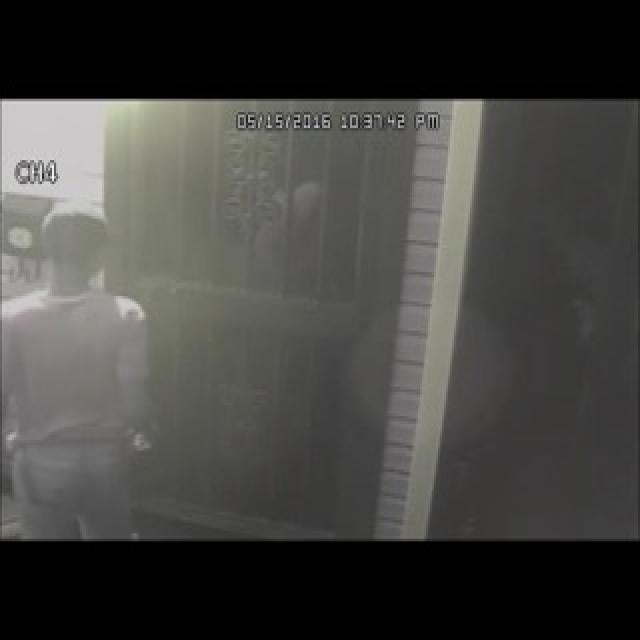thief: (27, 188, 127, 340)
